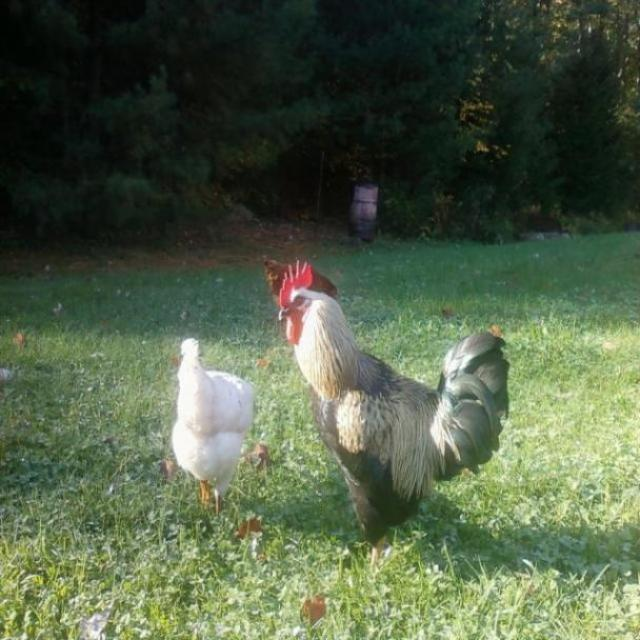Chicken: (277, 260, 510, 577), (168, 336, 252, 513)
